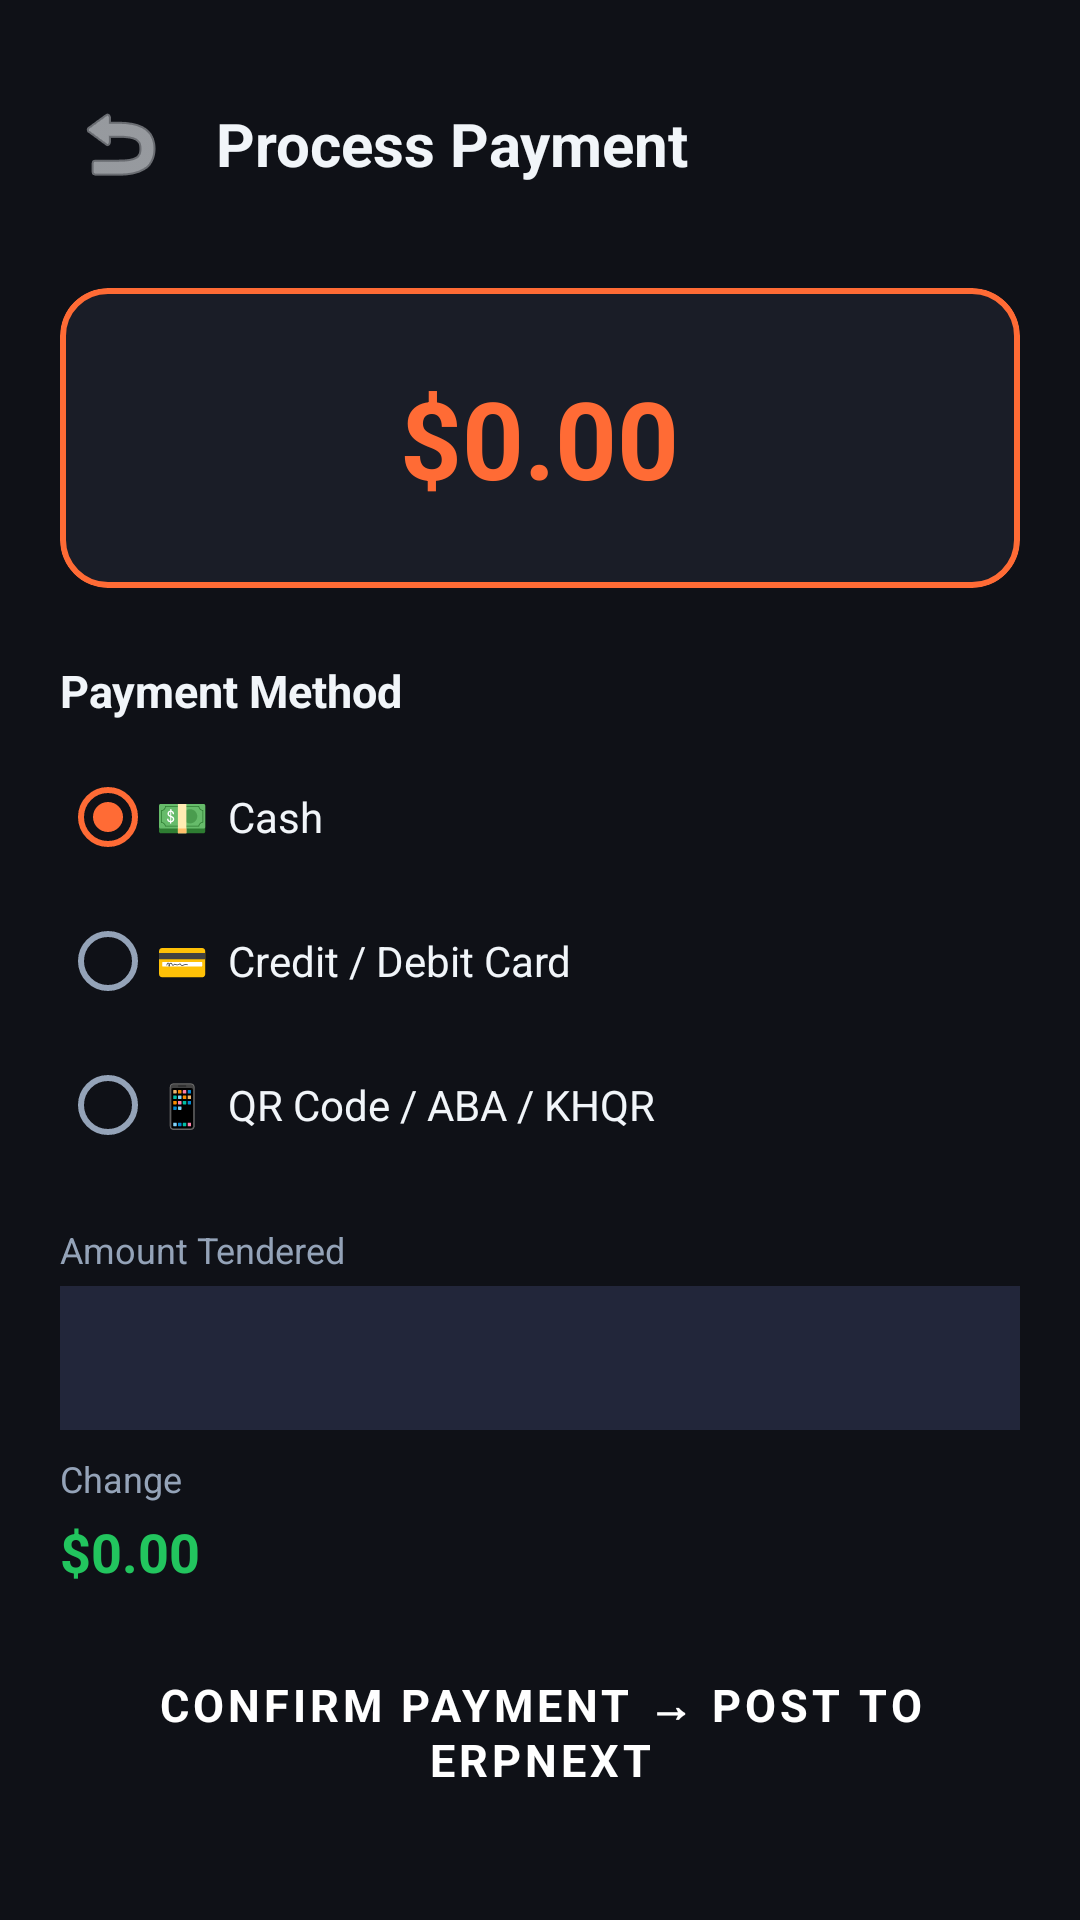

Named icons in this screenshot (1080 × 1920) and their bounding boxes, bbox(x1, y1, x2, y2):
revert: bbox(87, 113, 156, 176)
